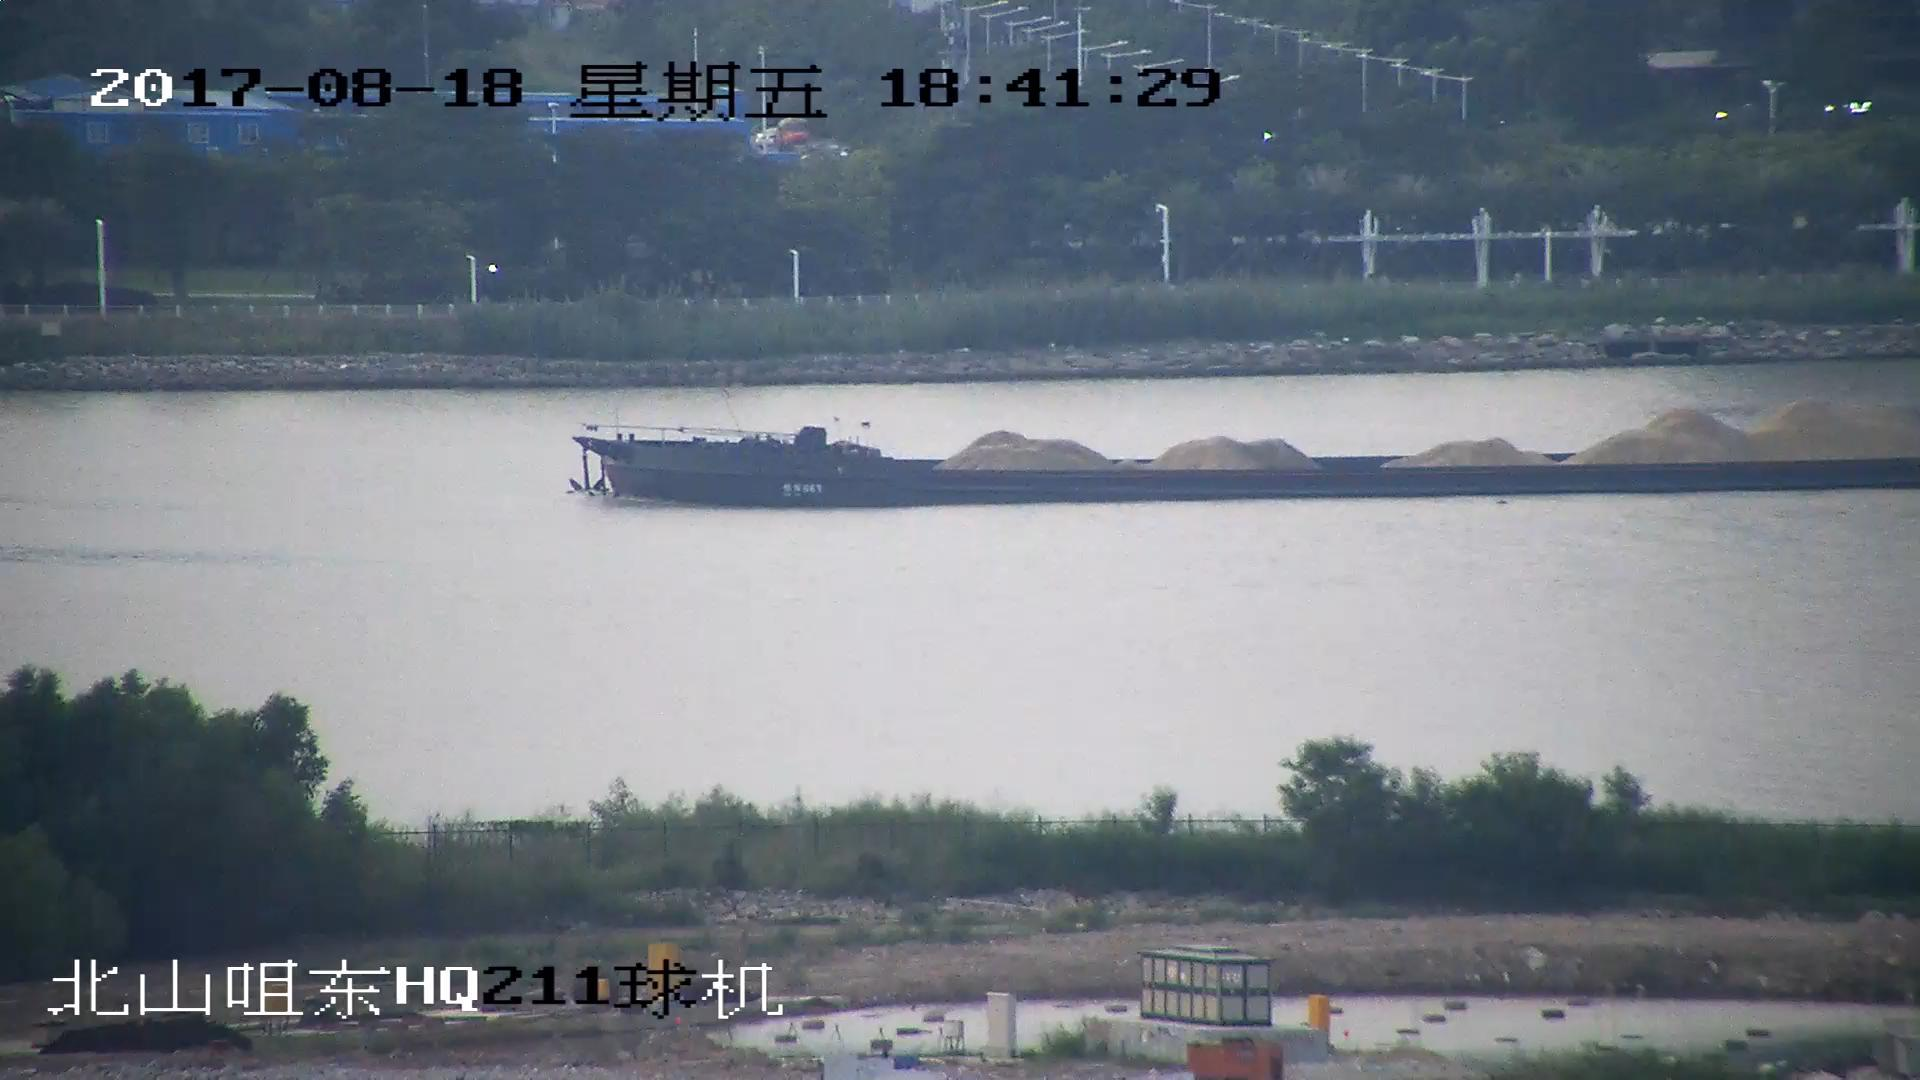Ship: (570, 407, 1920, 512)
